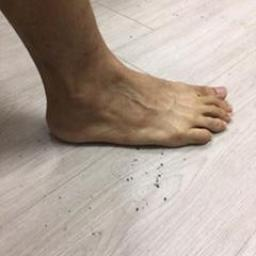Lateral View -Right Foot-: (22, 47, 239, 165)
